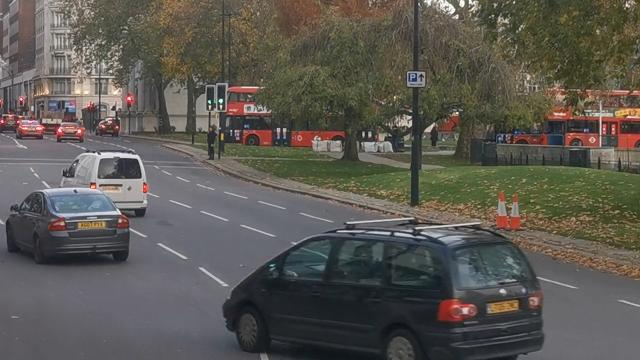car: (1, 185, 131, 268), (56, 122, 83, 143), (16, 121, 46, 139), (95, 118, 120, 138), (0, 114, 22, 133)
van: (223, 225, 549, 360), (61, 149, 149, 218)
